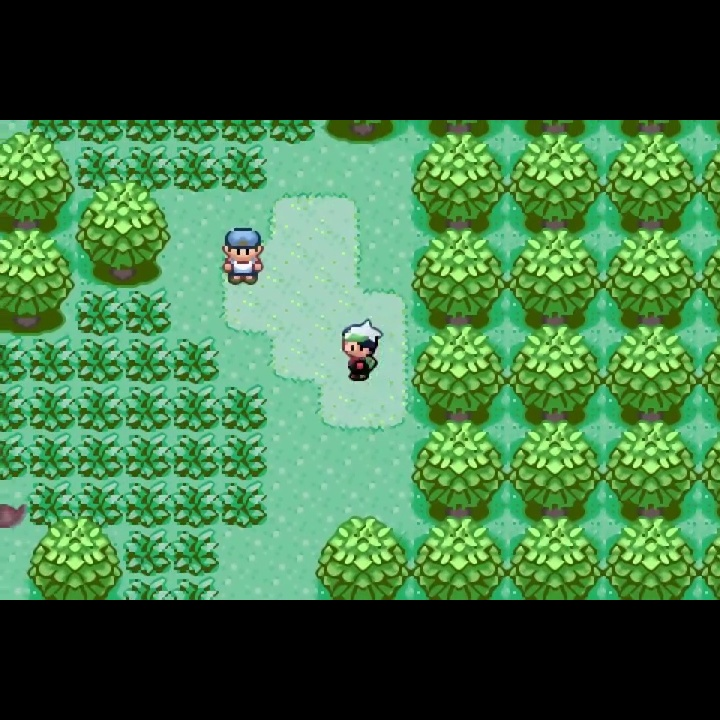grass: (123, 527, 174, 578), (74, 286, 123, 338), (220, 481, 270, 531), (123, 142, 172, 193), (172, 144, 221, 194), (123, 289, 172, 338), (27, 433, 76, 482), (75, 432, 124, 481), (218, 384, 267, 433), (220, 433, 269, 482), (27, 481, 76, 529), (124, 481, 172, 530), (172, 529, 221, 577), (124, 336, 172, 385), (124, 385, 173, 433), (172, 432, 220, 481), (76, 144, 123, 194), (29, 336, 76, 386), (76, 335, 123, 385), (173, 335, 219, 386), (29, 386, 77, 434), (221, 144, 268, 193), (172, 385, 219, 434), (125, 432, 172, 481), (76, 386, 124, 433), (173, 481, 219, 529), (77, 480, 122, 529), (1, 431, 29, 481), (1, 335, 27, 385), (125, 120, 173, 146), (75, 120, 124, 145), (1, 387, 28, 432), (122, 576, 174, 599), (173, 120, 221, 144), (220, 121, 269, 144), (172, 577, 221, 600), (27, 121, 75, 144), (270, 120, 314, 143)
npc: (215, 221, 266, 286), (338, 315, 386, 384)
wall: (75, 180, 172, 288), (507, 323, 603, 425), (411, 324, 507, 425), (602, 323, 699, 420), (603, 421, 699, 519), (410, 229, 508, 325), (602, 230, 699, 325), (508, 229, 603, 326), (410, 135, 507, 230), (505, 421, 603, 515), (507, 135, 603, 230), (603, 135, 699, 230), (410, 423, 507, 516), (314, 514, 411, 599), (411, 514, 506, 600), (1, 226, 75, 335), (27, 517, 124, 600), (506, 516, 603, 599), (603, 517, 699, 599), (1, 131, 75, 227), (508, 120, 604, 144), (603, 120, 699, 143), (698, 421, 720, 518), (411, 121, 508, 143), (320, 121, 411, 144), (699, 326, 720, 423), (699, 228, 720, 324), (699, 138, 720, 234), (699, 518, 720, 600)
